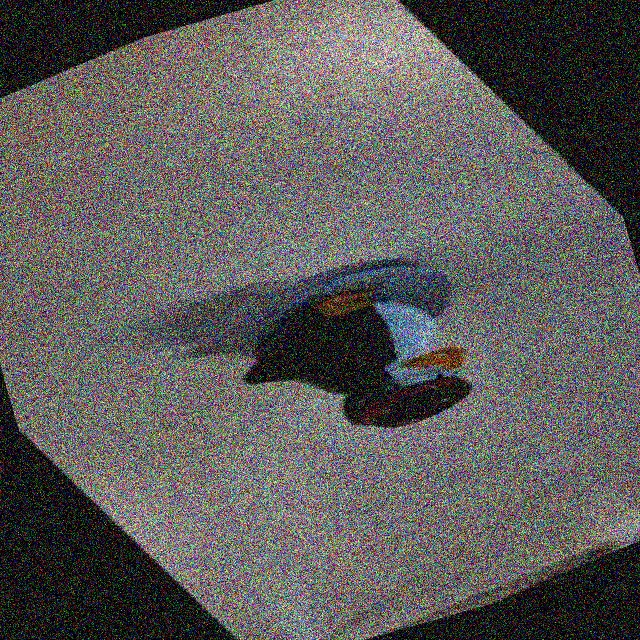Penguin: (161, 194, 593, 519)
